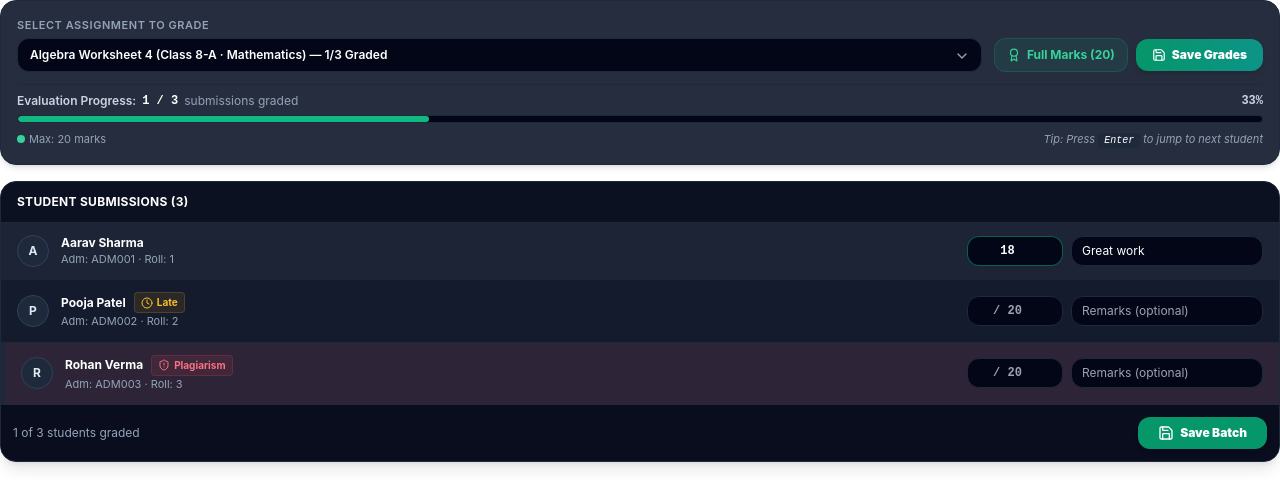
Test: GradingQueue & MarksEntryGrid (Phase T6 & AC-T6, AC-T7) › GradingQueue: Progress, Flags & Keyboard Auto-Advance (AC-T7) › awards full marks to ungraded submissions on bulk action tap
What coordinates should you click on to do the following:
click the button "Full Marks (20)"
I would click on:
 (1061, 54)
Its box is [994,38,1128,72].
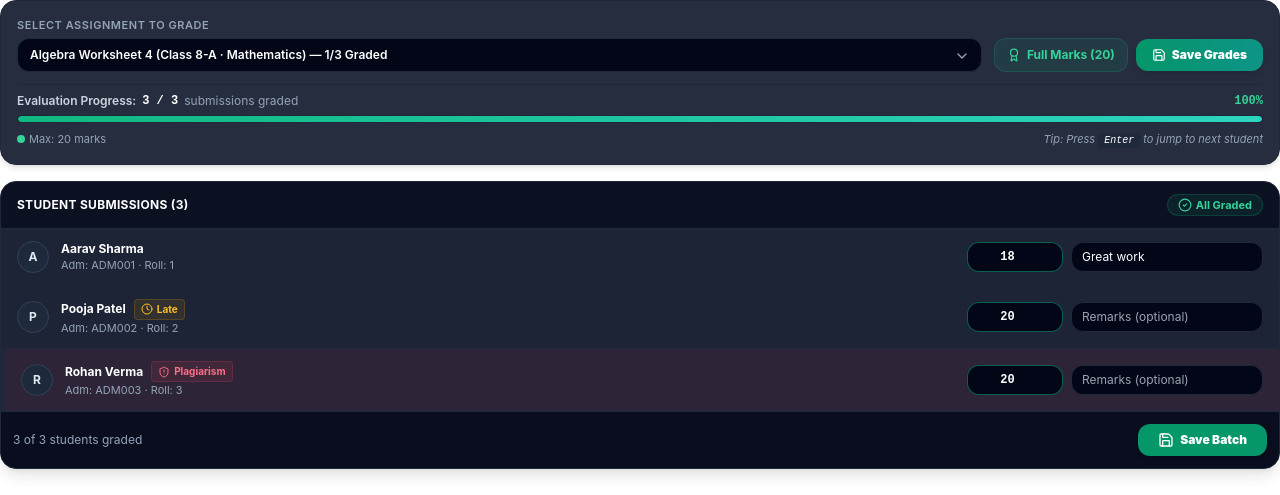
Expected: the text "3 / 3" is shown, [142,92,178,108]
Expected: the text "100%" is shown, [1234,92,1263,108]
Expected: the text "All Graded" is shown, [1167,194,1263,216]
